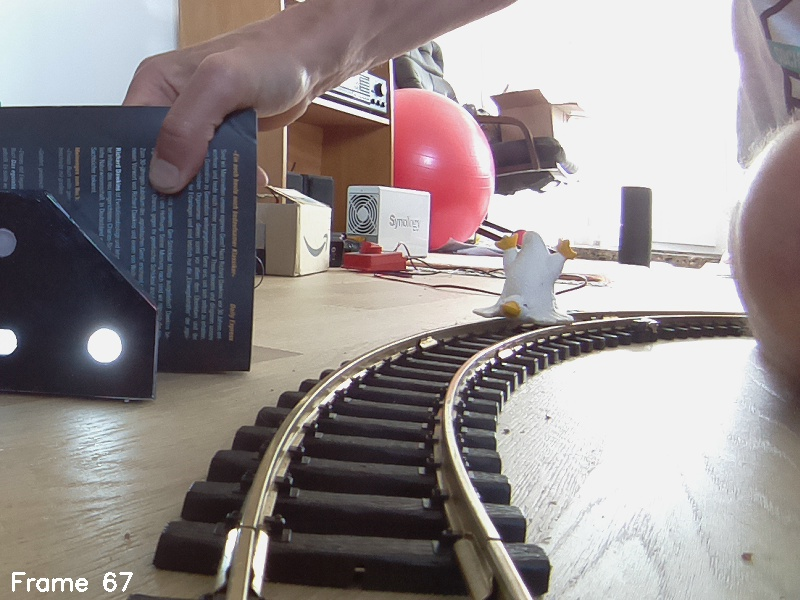Halt: (1, 190, 155, 406)
